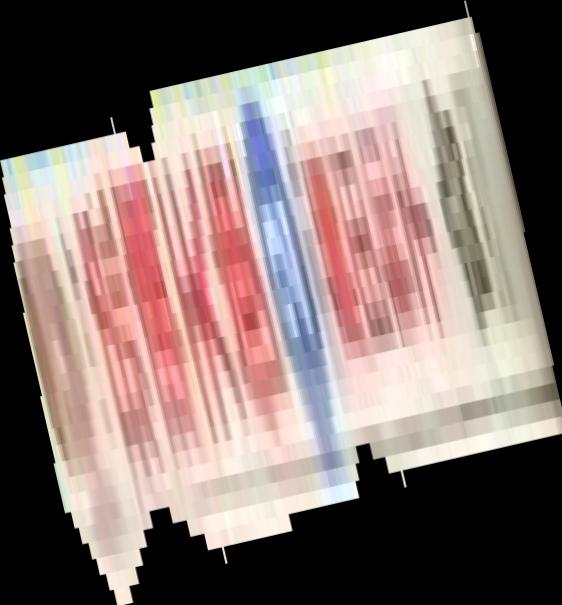flat: (1, 1, 562, 605)
